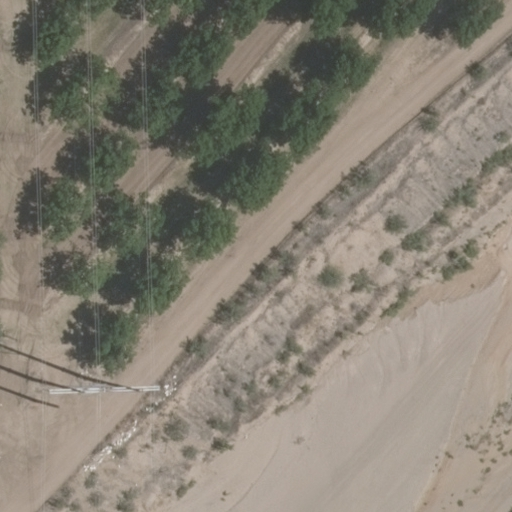DT: (42, 380, 178, 401)
